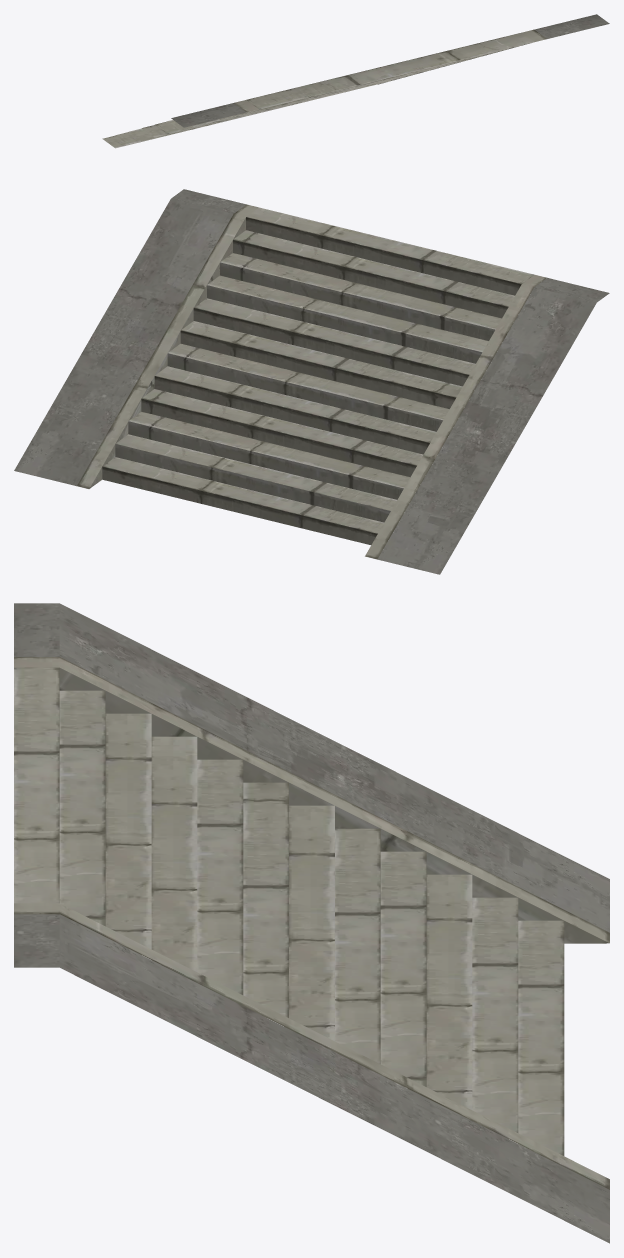
The picture shows the model from 3 angles, top to bottom: view 1: azimuth 30°, elevation 25°; view 2: azimuth 150°, elevation 25°; view 3: azimuth 270°, elevation 25°; orthographic projection. The views are drawn at different scales.
Parts seen in each view (by area): view 1: body0_model0_lod0_mesh1, body0_model0_lod0_mesh0; view 2: body0_model0_lod0_mesh1, body0_model0_lod0_mesh0; view 3: body0_model0_lod0_mesh1, body0_model0_lod0_mesh0.
Boxes of the visible parts, x1=… form: body0_model0_lod0_mesh1: x1=102, y1=29, x2=546, y2=148; body0_model0_lod0_mesh0: x1=171, y1=14, x2=609, y2=127; body0_model0_lod0_mesh1: x1=77, y1=204, x2=546, y2=559; body0_model0_lod0_mesh0: x1=14, y1=189, x2=609, y2=574; body0_model0_lod0_mesh1: x1=14, y1=657, x2=609, y2=1189; body0_model0_lod0_mesh0: x1=14, y1=603, x2=609, y2=1243.
Size of the model in its own units: 272 by 96.01 by 188.
Materials: 2 (2 with a texture image).
